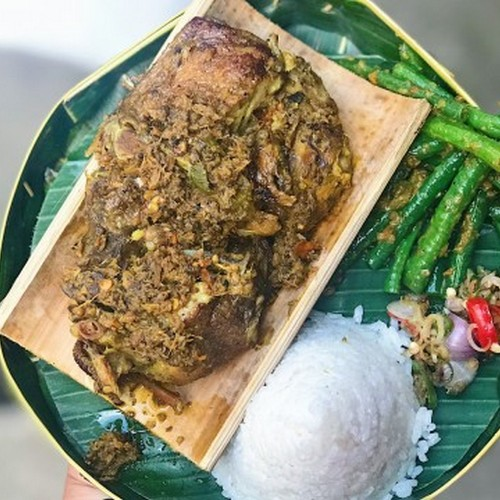bebek timbungan: (68, 12, 294, 359)
